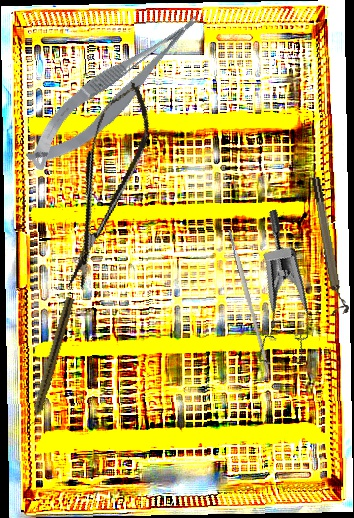Fixation Ring: (309, 175, 350, 316)
Handpiece: (27, 295, 75, 427)
Micro Scissor: (11, 6, 220, 178), (44, 76, 164, 296)
Scalpel Handle: (227, 229, 272, 375)
Speculum: (208, 208, 337, 379)
